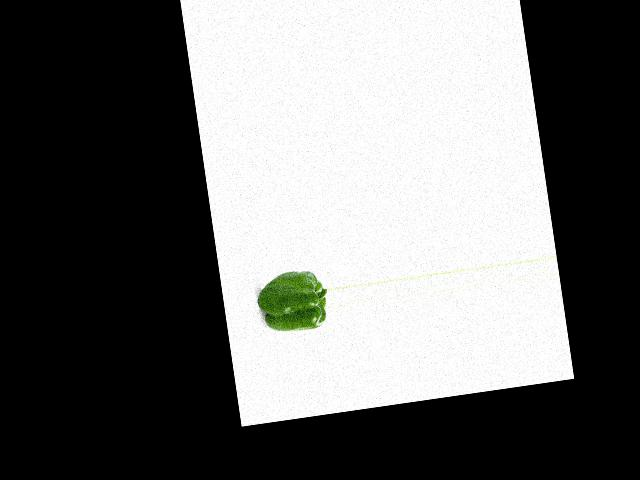bell_pepper: (256, 265, 330, 337)
